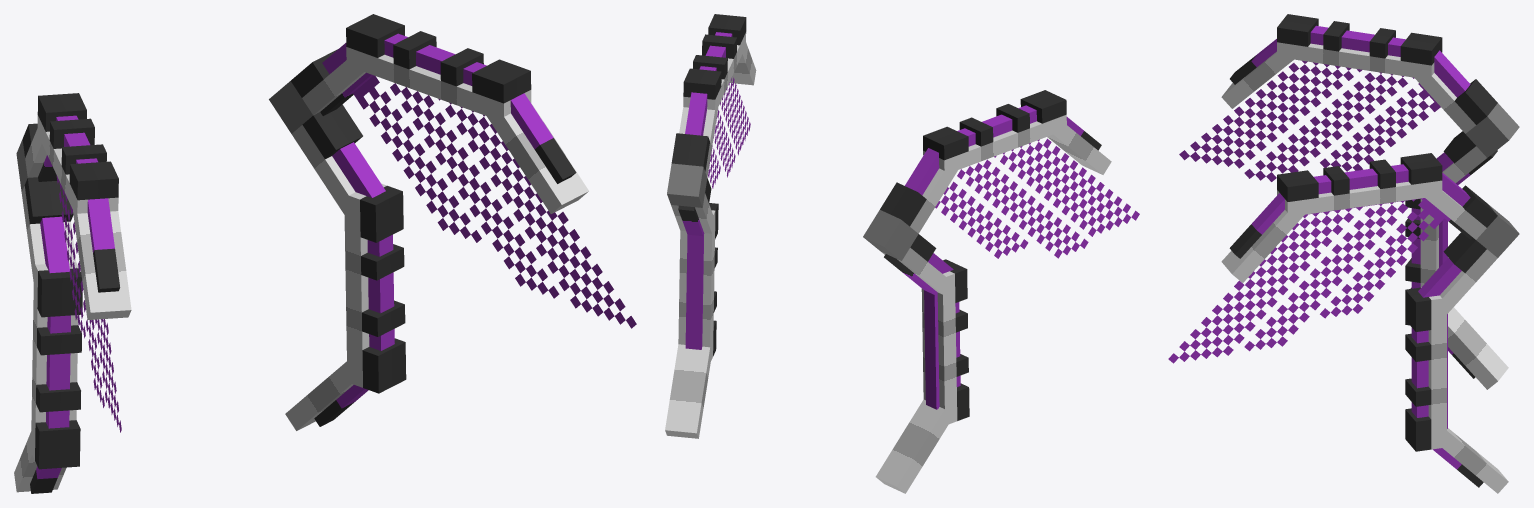
Rendered from advanced_mekasuit_modules.obj.
The picture shows the model from 3 angles, left to right: view 1: azimuth 30°, elevation 25°; view 2: azimuth 150°, elevation 25°; view 3: azimuth 270°, elevation 25°; orthographic projection. The views are drawn at different scales.
Visible parts, largest first — view 1: override_elytra_inactive_elytra_right_arm_right_wing_energy_cove, override_elytra_elytra_right_wing_energy_mesh_led1, override_elytra_elytra_right_wing_energy_mesh_led2, override_elytra_inactive_elytra_right_arm_right_wing_energy_chan, override_elytra_inactive_elytra_right_arm_right_wing_arm2, override_elytra_elytra_right_wing_arm2, override_elytra_inactive_elytra_left_arm_left_wing_energy_channe, override_elytra_elytra_left_wing_arm3, override_elytra_elytra_right_wing_arm3, override_elytra_elytra_right_wing_energy_mesh_led3, override_elytra_inactive_elytra_left_arm_left_wing_energy_cover5, override_elytra_inactive_elytra_left_arm_left_wing_arm2 (+29 smaller); view 2: override_elytra_elytra_left_wing_energy_mesh_led1, override_elytra_inactive_elytra_right_arm_right_wing_arm3, override_elytra_inactive_elytra_left_arm_left_wing_arm3, override_elytra_inactive_elytra_left_arm_left_wing_arm2, override_elytra_inactive_elytra_left_arm_left_wing_energy_channe, override_elytra_elytra_left_wing_energy_mesh_led2, override_elytra_inactive_elytra_right_arm_right_wing_energy_chan, override_elytra_inactive_elytra_right_arm_right_wing_arm2, override_elytra_elytra_left_wing_arm2, override_elytra_elytra_left_wing_energy_mesh_led3, override_elytra_elytra_left_wing_base, override_elytra_elytra_right_wing_base (+24 smaller); view 3: override_elytra_elytra_right_wing_energy_mesh_led1, override_elytra_elytra_left_wing_energy_mesh_led1, override_elytra_inactive_elytra_right_arm_right_wing_energy_cove, override_elytra_elytra_right_wing_energy_mesh_led2, override_elytra_elytra_left_wing_energy_mesh_led2, override_elytra_elytra_right_wing_arm2, override_elytra_inactive_elytra_right_arm_right_wing_arm2, override_elytra_elytra_left_wing_arm2, override_elytra_elytra_right_wing_energy_mesh_led3, override_elytra_inactive_elytra_left_arm_left_wing_arm3, override_elytra_elytra_left_wing_energy_mesh_led3, override_elytra_inactive_elytra_right_arm_right_wing_energy_chan (+29 smaller).
Boxes of the visible parts, x1=… form: override_elytra_inactive_elytra_right_arm_right_wing_energy_cove: x1=302, y1=104, x2=406, y2=426; override_elytra_elytra_right_wing_energy_mesh_led1: x1=438, y1=99, x2=636, y2=328; override_elytra_elytra_right_wing_energy_mesh_led2: x1=390, y1=83, x2=559, y2=298; override_elytra_inactive_elytra_right_arm_right_wing_energy_chan: x1=332, y1=142, x2=394, y2=408; override_elytra_inactive_elytra_right_arm_right_wing_arm2: x1=344, y1=183, x2=386, y2=387; override_elytra_elytra_right_wing_arm2: x1=346, y1=47, x2=531, y2=122; override_elytra_inactive_elytra_left_arm_left_wing_energy_channe: x1=36, y1=216, x2=70, y2=479; override_elytra_elytra_left_wing_arm3: x1=73, y1=196, x2=131, y2=319; override_elytra_elytra_right_wing_arm3: x1=487, y1=103, x2=588, y2=213; override_elytra_elytra_right_wing_energy_mesh_led3: x1=353, y1=75, x2=481, y2=242; override_elytra_inactive_elytra_left_arm_left_wing_energy_cover5: x1=35, y1=420, x2=80, y2=469; override_elytra_inactive_elytra_left_arm_left_wing_arm2: x1=31, y1=262, x2=78, y2=460; override_elytra_elytra_left_wing_energy_mesh_led1: x1=994, y1=138, x2=1139, y2=236; override_elytra_inactive_elytra_right_arm_right_wing_arm3: x1=665, y1=344, x2=710, y2=438; override_elytra_inactive_elytra_left_arm_left_wing_arm3: x1=875, y1=399, x2=949, y2=493; override_elytra_inactive_elytra_left_arm_left_wing_arm2: x1=921, y1=271, x2=957, y2=425; override_elytra_inactive_elytra_left_arm_left_wing_energy_channe: x1=884, y1=253, x2=960, y2=409; override_elytra_elytra_left_wing_energy_mesh_led2: x1=957, y1=159, x2=1088, y2=258; override_elytra_inactive_elytra_right_arm_right_wing_energy_chan: x1=678, y1=205, x2=704, y2=349; override_elytra_inactive_elytra_right_arm_right_wing_arm2: x1=678, y1=210, x2=715, y2=362; override_elytra_elytra_left_wing_arm2: x1=923, y1=114, x2=1066, y2=174; override_elytra_elytra_left_wing_energy_mesh_led3: x1=935, y1=181, x2=1028, y2=258; override_elytra_elytra_left_wing_base: x1=863, y1=210, x2=918, y2=260; override_elytra_elytra_right_wing_base: x1=667, y1=163, x2=707, y2=207; override_elytra_elytra_right_wing_energy_mesh_led1: x1=1168, y1=207, x2=1362, y2=363; override_elytra_elytra_left_wing_energy_mesh_led1: x1=1179, y1=60, x2=1361, y2=168; override_elytra_inactive_elytra_right_arm_right_wing_energy_cove: x1=1405, y1=232, x2=1486, y2=487; override_elytra_elytra_right_wing_energy_mesh_led2: x1=1244, y1=199, x2=1415, y2=351; override_elytra_elytra_left_wing_energy_mesh_led2: x1=1244, y1=72, x2=1414, y2=181; override_elytra_elytra_right_wing_arm2: x1=1277, y1=180, x2=1442, y2=216; override_elytra_inactive_elytra_right_arm_right_wing_arm2: x1=1421, y1=287, x2=1446, y2=449; override_elytra_elytra_left_wing_arm2: x1=1277, y1=42, x2=1442, y2=77; override_elytra_elytra_right_wing_energy_mesh_led3: x1=1320, y1=200, x2=1444, y2=318; override_elytra_inactive_elytra_left_arm_left_wing_arm3: x1=1448, y1=307, x2=1508, y2=389; override_elytra_elytra_left_wing_energy_mesh_led3: x1=1320, y1=83, x2=1440, y2=171; override_elytra_inactive_elytra_right_arm_right_wing_energy_chan: x1=1411, y1=258, x2=1461, y2=469.
Bounding box in the file's own units: 1.76 × 1.48 × 1.34.
